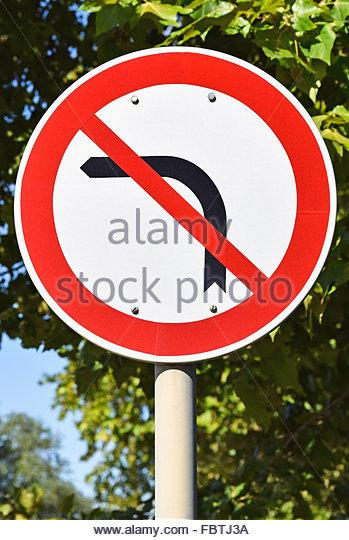no_left_turn: (13, 47, 335, 364)
